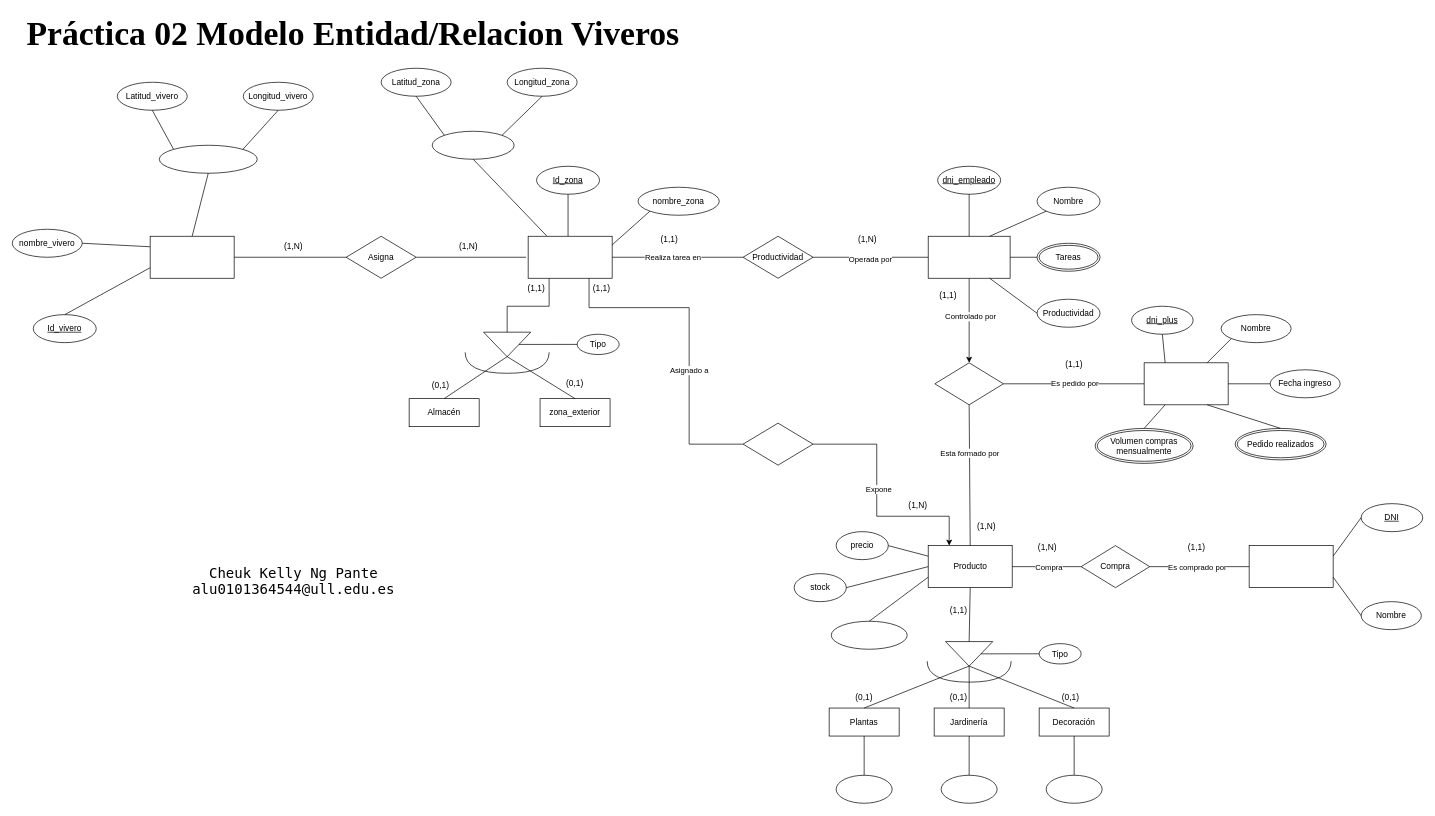
Image size: 1435x816. Some labels were removed from this diagram. Here are the shapes that lost their labels. From the top down, the box of each, then its label:
(159, 145, 257, 173): Coordenadas_vivero
(432, 131, 514, 159): Coordenadas_zona
(149, 236, 234, 278): Vivero
(527, 236, 612, 278): Zona
(927, 236, 1010, 278): Empleado
(934, 362, 1003, 405): Pedido
(1143, 362, 1228, 405): Cliente Plus
(742, 422, 813, 465): Posee
(1248, 545, 1333, 588): Cliente
(831, 621, 907, 649): nombre_producto
(835, 775, 892, 803): Numero plantas
(940, 775, 997, 803): Numero macetas
(1045, 775, 1102, 803): Numero decoracion
